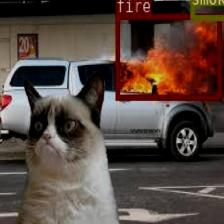fire: (115, 13, 221, 100)
smoke: (189, 0, 224, 19)
